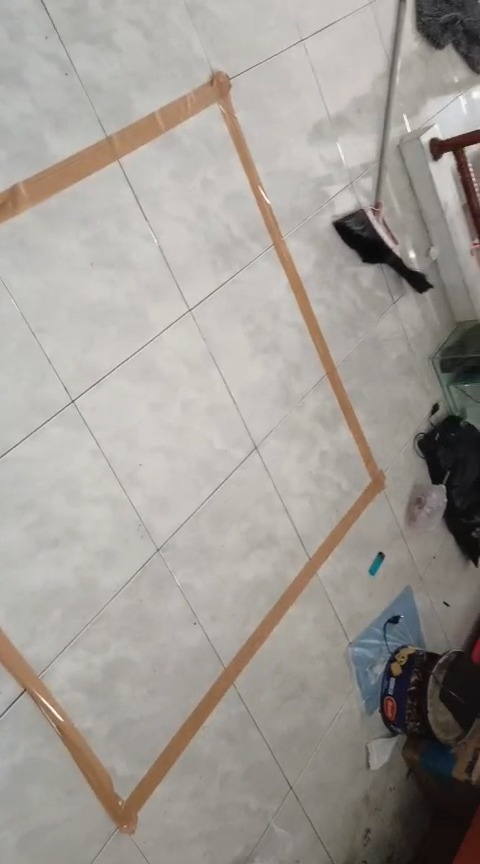floor marking: (0, 73, 384, 833)
